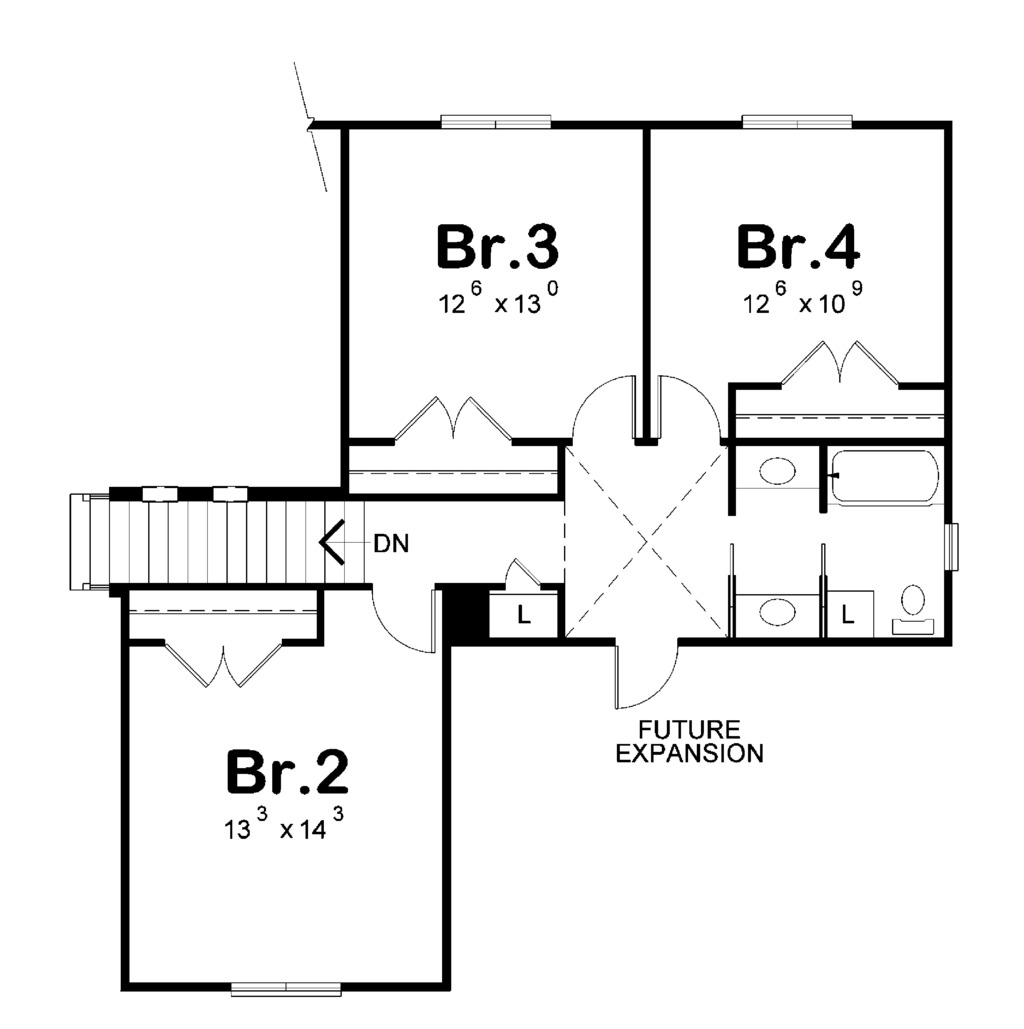door: (164, 632, 286, 691), (780, 329, 910, 383), (391, 394, 523, 437), (371, 583, 436, 657), (617, 643, 690, 707), (566, 376, 642, 434), (659, 372, 723, 432), (507, 557, 547, 587)
large_sink: (883, 576, 937, 643)
small_sink: (742, 451, 815, 489), (742, 597, 813, 635)
stairs: (67, 491, 378, 584)
tub: (818, 445, 944, 511)
window: (434, 110, 558, 132), (744, 108, 853, 127), (934, 524, 964, 569), (232, 984, 336, 994)
